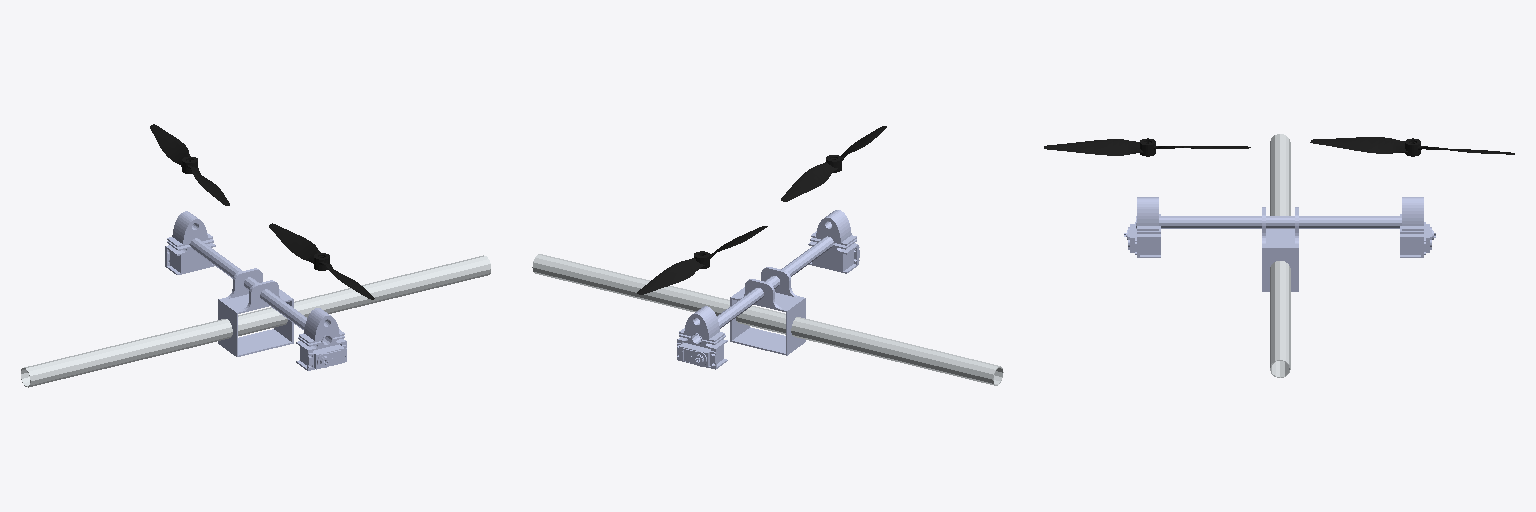
robot.urdf — bi_copter:
<?xml version="1.0" encoding="utf-8"?>
<!--
================================================================================
BI-COPTER ROBOT DESCRIPTION (URDF Model for ROS 2 & RViz2)
================================================================================

Hello! This URDF (Unified Robot Description Format) file defines the complete
kinematic tree, mass distribution, visual meshes, and collision geometry of our
dual-tilt bi-copter drone.

Vehicle Coordinate Convention (ROS Standard FLU):
- +X: Forward (along the central fuselage rod)
- +Y: Left (along the transverse motor arm)
- +Z: Up (perpendicular to the frame)

Actuator Kinematic Breakdown:
1. Fuselage & Frame:
   - `base_footprint`: Root link for KDL tree kinematic parsers.
   - `base_link`: Main 650 mm longitudinal carbon fiber fuselage rod.
   - `frame_link`: Central cross bracket rigidly attached to the rod.

2. Tilting Servos (Revolute joints about +Y axis):
   - `left_tilt_link`  / `left_tilt_joint` : Left motor mount (tilts ±30°).
   - `right_tilt_link` / `right_tilt_joint`: Right motor mount (tilts ±30°).
   * Positive angle tilts the thrust vector forward (+X).

3. Aerodynamic Thrusters (Continuous joints):
   - `left_prop_link`  / `left_prop_joint` : Motor 0 (10x5.5 prop, CCW rotation).
   - `right_prop_link` / `right_prop_joint`: Motor 1 (10x5.5 prop, CW rotation).

Origin & CAD Correspondence:
Derived from the SolidWorks CAD assembly ("link assem 1.urdf") with precise
inertias calculated from physical material densities (total drone mass ~0.481 kg).
================================================================================
-->
<robot name="bi_copter">

  <!-- ===================== base_footprint (dummy root for KDL parser) ===================== -->
  <link name="base_footprint"/>

  <joint name="base_footprint_joint" type="fixed">
    <origin xyz="0 0 0" rpy="0 0 0"/>
    <parent link="base_footprint"/>
    <child link="base_link"/>
  </joint>

  <!-- ===================== base_link : 650 mm rod ===================== -->
  <link name="base_link">
    <inertial>
      <origin xyz="0 0 0" rpy="0 0 0"/>
      <mass value="0.132323882569202"/>
      <inertia ixx="1.90877200606074E-05" ixy="0" ixz="0"
               iyy="0.00466844722548764" iyz="0" izz="0.00466844722548764"/>
    </inertial>
    <visual>
      <origin xyz="0 0 0" rpy="0 0 0"/>
      <geometry>
        <mesh filename="package://bi_copter_control/meshes/base_link.STL"/>
      </geometry>
      <material name="rod">
        <color rgba="0.898 0.918 0.930 1"/>
      </material>
    </visual>
    <collision>
      <origin xyz="0 0 0" rpy="0 1.5707963267949 0"/>
      <geometry>
        <cylinder radius="0.0125" length="0.65"/>
      </geometry>
    </collision>
  </link>

  <!-- ===================== frame_link : central bracket (L1) ===================== -->
  <link name="frame_link">
    <inertial>
      <origin xyz="0.0187826477090622 0.0646496990402858 0.0655243998826831" rpy="0 0 0"/>
      <mass value="0.177641248758178"/>
      <inertia ixx="0.000214711885739995" ixy="0" ixz="0"
               iyy="0.000218978934528565" iyz="0" izz="8.14312338807093E-05"/>
    </inertial>
    <visual>
      <origin xyz="0 0 0" rpy="0 0 0"/>
      <geometry>
        <mesh filename="package://bi_copter_control/meshes/L1.STL"/>
      </geometry>
      <material name="frame">
        <color rgba="0.792 0.820 0.933 1"/>
      </material>
    </visual>
    <collision>
      <origin xyz="0.0188 0.0563 0.0660" rpy="0 0 0"/>
      <geometry>
        <box size="0.080 0.108 0.380"/>
      </geometry>
    </collision>
  </link>

  <joint name="frame_joint" type="fixed">
    <origin xyz="-0.0188267545319353 0.0657121173114694 -0.0323300324222666" rpy="1.5707963267949 0 0"/>
    <parent link="base_link"/>
    <child link="frame_link"/>
  </joint>

  <!-- ===================== left tilt (servo) : L2 ===================== -->
  <link name="left_tilt_link">
    <inertial>
      <origin xyz="0.000639451801211969 0.0419854704930056 0.0202856147814962" rpy="0 0 0"/>
      <mass value="0.0756917660219552"/>
      <inertia ixx="1.36003088872351E-05" ixy="-3.48905222525505E-07" ixz="-6.71026377493094E-07"
               iyy="1.61394826592292E-05" iyz="-1.5868331703718E-07" izz="1.35431982502197E-05"/>
    </inertial>
    <visual>
      <origin xyz="0 0 0" rpy="0 0 0"/>
      <geometry>
        <mesh filename="package://bi_copter_control/meshes/L2.STL"/>
      </geometry>
      <material name="bracket">
        <color rgba="0.753 0.753 0.753 1"/>
      </material>
    </visual>
    <collision>
      <origin xyz="0.0095 0.0447 0.0200" rpy="0 0 0"/>
      <geometry>
        <box size="0.069 0.114 0.040"/>
      </geometry>
    </collision>
  </link>

  <joint name="left_tilt_joint" type="revolute">
    <origin xyz="0.0188409419721205 0.100330032422266 -0.0752878826885309" rpy="3.14159265358979 0 3.14159265358979"/>
    <parent link="frame_link"/>
    <child link="left_tilt_link"/>
    <axis xyz="0 0 1"/>
    <limit lower="-0.5236" upper="0.5236" effort="2.0" velocity="10.0"/>
    <dynamics damping="0.0" friction="0.0"/>
  </joint>

  <!-- ===================== right tilt (servo) : L3 ===================== -->
  <link name="right_tilt_link">
    <inertial>
      <origin xyz="0.000642058132076519 0.0419833660785355 0.0197082906269082" rpy="0 0 0"/>
      <mass value="0.0757054374645909"/>
      <inertia ixx="1.3602712306349E-05" ixy="-3.49944732585982E-07" ixz="6.81764898257614E-07"
               iyy="1.61425065106366E-05" iyz="1.62483769950288E-07" izz="1.35454251706912E-05"/>
    </inertial>
    <visual>
      <origin xyz="0 0 0" rpy="0 0 0"/>
      <geometry>
        <mesh filename="package://bi_copter_control/meshes/L3.STL"/>
      </geometry>
      <material name="bracket"/>
    </visual>
    <collision>
      <origin xyz="0.0095 0.0447 0.0200" rpy="0 0 0"/>
      <geometry>
        <box size="0.069 0.114 0.040"/>
      </geometry>
    </collision>
  </link>

  <joint name="right_tilt_joint" type="revolute">
    <origin xyz="0.0188125670917499 0.100330032422266 0.246712117311469" rpy="3.14159265358979 0 -3.14159265358979"/>
    <parent link="frame_link"/>
    <child link="right_tilt_link"/>
    <axis xyz="0 0 1"/>
    <limit lower="-0.5236" upper="0.5236" effort="2.0" velocity="10.0"/>
    <dynamics damping="0.0" friction="0.0"/>
  </joint>

  <!-- ===================== left propeller : L4 (CCW seen from above) ===================== -->
  <link name="left_prop_link">
    <inertial>
      <origin xyz="0 0 0.00805127" rpy="0 0 0"/>
      <mass value="0.00976049064649461"/>
      <inertia ixx="2.0248e-05" ixy="-3.329e-06" ixz="0"
               iyy="9.130e-07" iyz="0" izz="2.0957e-05"/>
    </inertial>
    <visual>
      <origin xyz="0 0 0" rpy="1.5707963267949 0 2.997185"/>
      <geometry>
        <mesh filename="package://bi_copter_control/meshes/L4.STL"/>
      </geometry>
      <material name="prop">
        <color rgba="0.15 0.15 0.15 1"/>
      </material>
    </visual>
  </link>

  <joint name="left_prop_joint" type="continuous">
    <origin xyz="0 0.0698434677431831 0.0200004851942814" rpy="-1.5707963267949 0 0"/>
    <parent link="left_tilt_link"/>
    <child link="left_prop_link"/>
    <axis xyz="0 0 1"/>
  </joint>

  <!-- ===================== right propeller : L5 (CW seen from above) ===================== -->
  <link name="right_prop_link">
    <inertial>
      <origin xyz="0 0 0.00805127" rpy="0 0 0"/>
      <mass value="0.0097605620215964"/>
      <inertia ixx="2.0796e-05" ixy="-4.378e-07" ixz="0"
               iyy="3.652e-07" iyz="0" izz="2.0958e-05"/>
    </inertial>
    <visual>
      <origin xyz="0 0 0" rpy="1.5707963267949 0 -3.14159265358979"/>
      <geometry>
        <mesh filename="package://bi_copter_control/meshes/L5.STL"/>
      </geometry>
      <material name="prop_r">
        <color rgba="0.15 0.15 0.15 1"/>
      </material>
    </visual>
  </link>

  <joint name="right_prop_joint" type="continuous">
    <origin xyz="0 0.069843467743183 0.0200004851942814" rpy="-1.5707963267949 0 0"/>
    <parent link="right_tilt_link"/>
    <child link="right_prop_link"/>
    <axis xyz="0 0 1"/>
  </joint>

</robot>

--- What the picture shows (computed from the rendered views, not written in the file) ---
The picture shows the robot from 3 angles, left to right: view 1: azimuth 30°, elevation 25°; view 2: azimuth 150°, elevation 25°; view 3: azimuth 270°, elevation 25°; orthographic projection.
Robot: bi_copter — 7 links, 6 joints (2 revolute, 2 continuous, 2 fixed); root link base_footprint; default pose: every joint at zero.
Visible links, largest first — view 1: base_link, frame_link, right_prop_link, left_prop_link; view 2: frame_link, base_link, left_prop_link, right_prop_link; view 3: frame_link, base_link, right_prop_link, left_prop_link.
Boxes of the visible links, x1=… form: base_link: x1=21, y1=255, x2=490, y2=387; frame_link: x1=165, y1=211, x2=346, y2=370; right_prop_link: x1=269, y1=223, x2=374, y2=299; left_prop_link: x1=150, y1=124, x2=229, y2=205; frame_link: x1=677, y1=210, x2=859, y2=369; base_link: x1=532, y1=254, x2=1003, y2=385; left_prop_link: x1=637, y1=226, x2=767, y2=294; right_prop_link: x1=781, y1=126, x2=886, y2=201; frame_link: x1=1124, y1=197, x2=1435, y2=291; base_link: x1=1270, y1=134, x2=1290, y2=377; right_prop_link: x1=1044, y1=138, x2=1250, y2=156; left_prop_link: x1=1310, y1=137, x2=1514, y2=156.
Size in the robot's own frame: 0.65 by 0.5721 by 0.1828 metres.
Meshes: 6 distinct files referenced, 4 mesh visuals loaded (4 binary STL); not drawn: 2 (reference not matched to a file when rendering).
